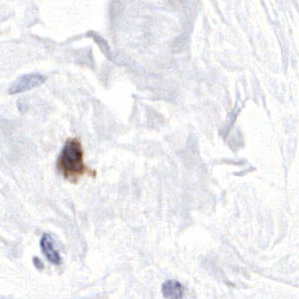Lymphocyte: (57, 139, 91, 182)
